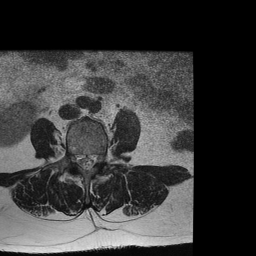CCS_normal: (83, 147, 89, 177)
LFS_normal: (97, 146, 104, 168)
LLS_normal: (90, 146, 97, 173)
RFS_normal: (70, 144, 76, 168)
RLS_normal: (76, 144, 83, 174)
